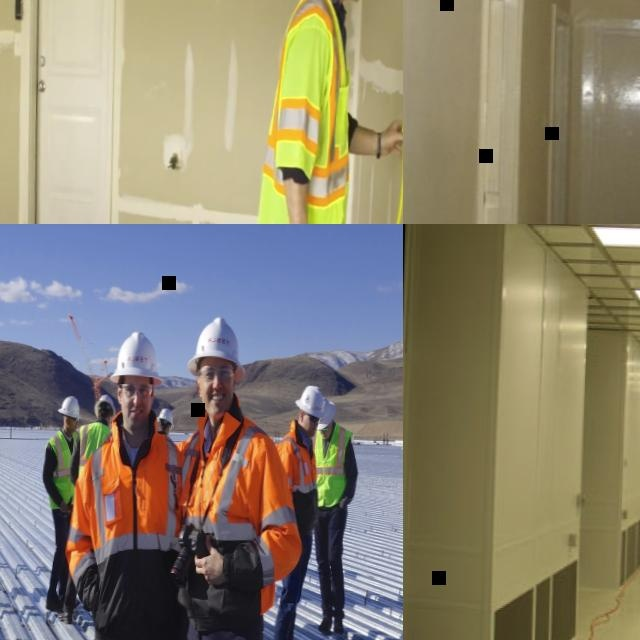Hardhat: (186, 315, 247, 381), (107, 329, 165, 387), (293, 382, 325, 420), (316, 398, 337, 430), (57, 395, 80, 421), (93, 392, 116, 416), (156, 408, 176, 429)
NO-Mask: (199, 388, 230, 418), (119, 399, 147, 429), (300, 422, 317, 439), (65, 422, 76, 434), (320, 431, 329, 440)
Person: (160, 312, 311, 640), (55, 325, 190, 640), (248, 0, 403, 224), (262, 383, 327, 640), (57, 393, 120, 622), (303, 397, 361, 635), (36, 393, 83, 614), (156, 405, 177, 435)
Safety Vest: (169, 391, 309, 612), (59, 410, 186, 640), (254, 0, 356, 224), (271, 420, 321, 535), (309, 422, 353, 506), (45, 428, 78, 508), (71, 421, 112, 475)
